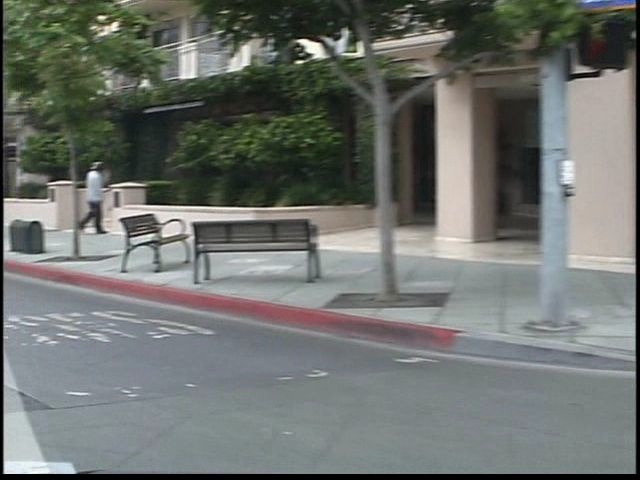person: (63, 156, 103, 246)
